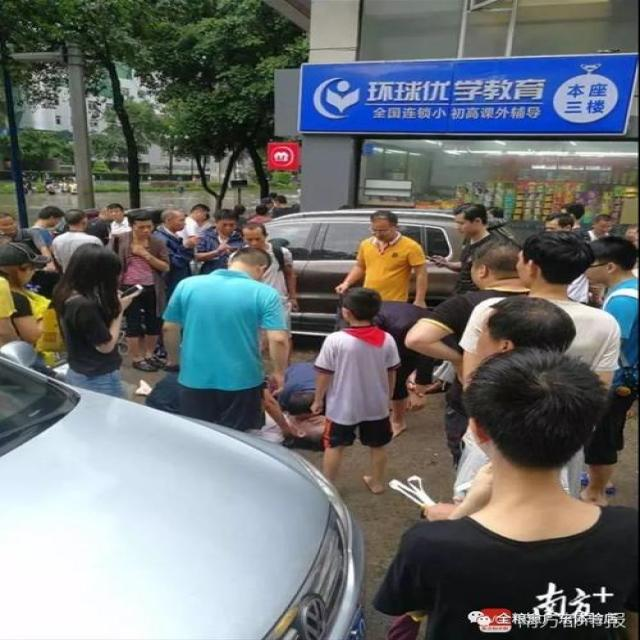10-: (0, 193, 639, 639)
down: (259, 368, 348, 460)
